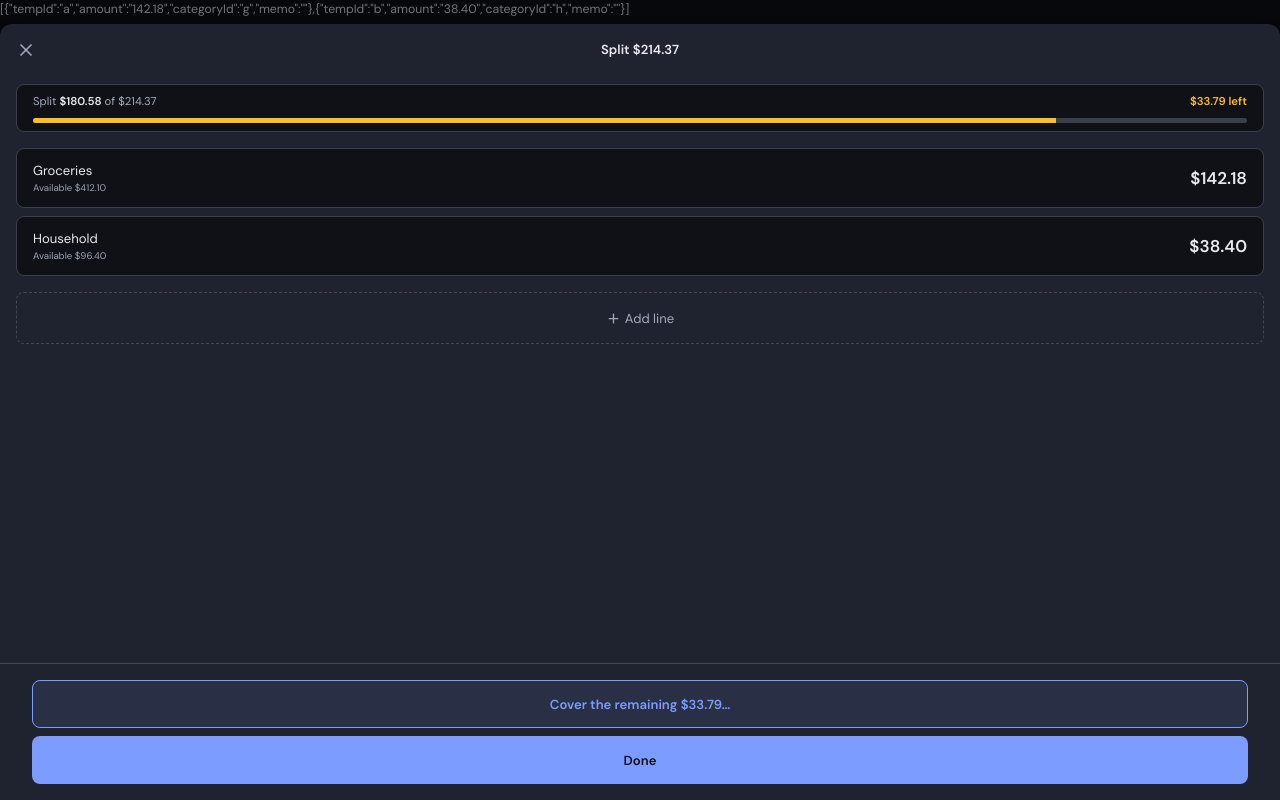
Test case: SplitSheet › folds every line when the split is complete, and opens one on a tap
The image size is (1280, 800).
What coordinates should you click on to do the following:
click the button with aria-label "Split 2: Household, $38.40"
I would click on:
 (65, 239)
Its box is [16, 216, 1264, 276].
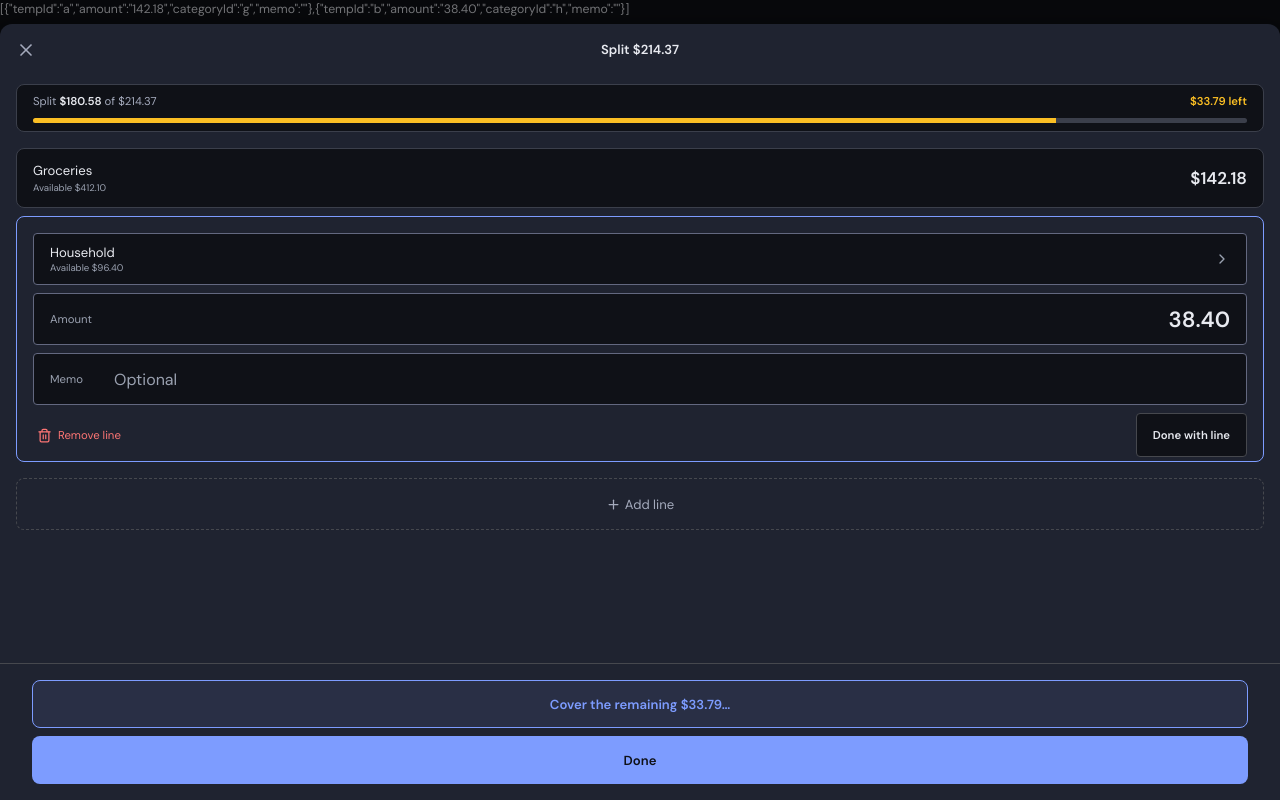
Expected: the field named "Split 2 amount" is shown, [114, 295, 1230, 343]
